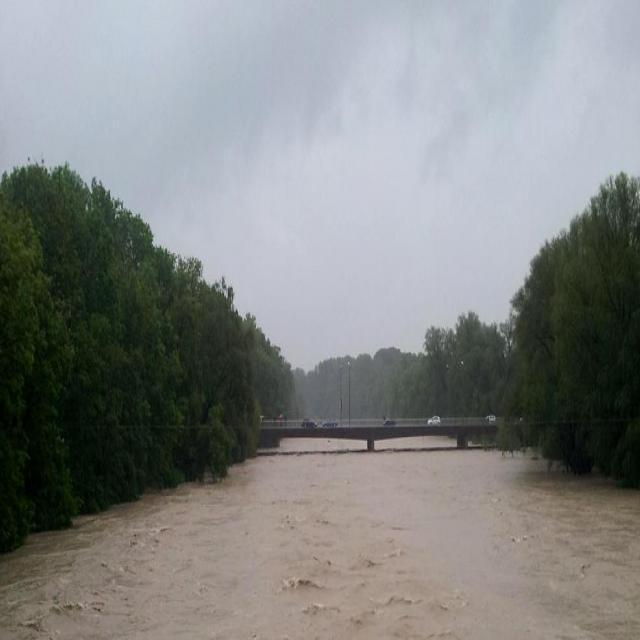flood: (4, 442, 640, 640)
